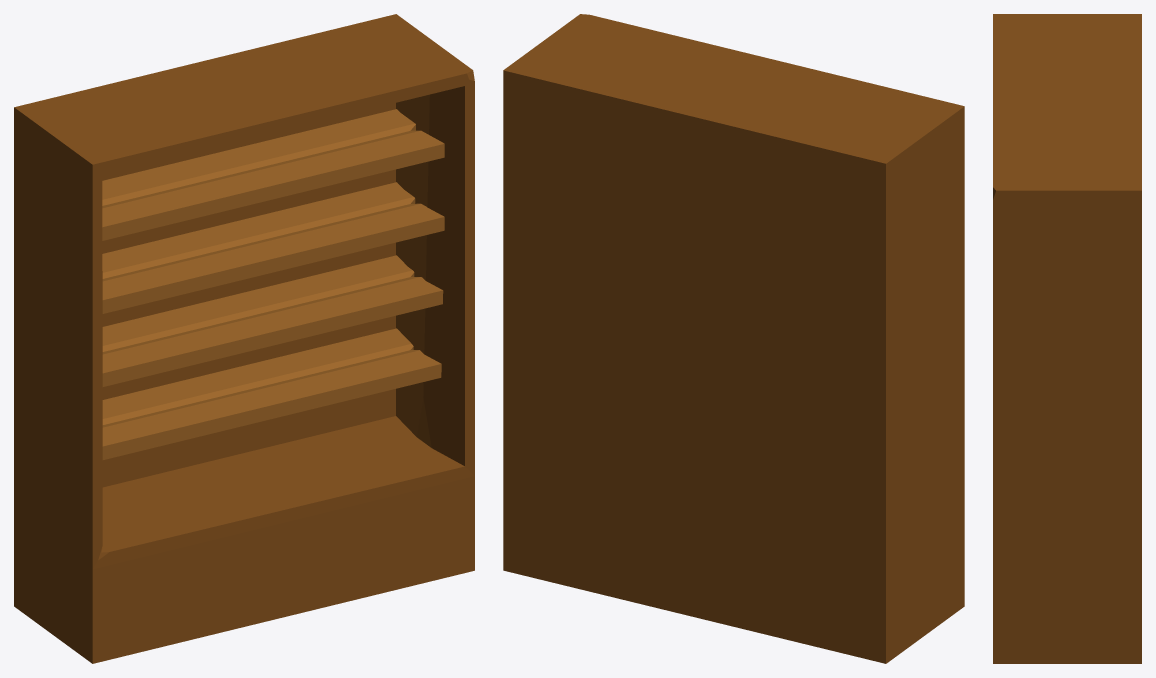
File: shelfbyquerst.fbx
The picture shows the model from 3 angles, left to right: view 1: azimuth 30°, elevation 25°; view 2: azimuth 150°, elevation 25°; view 3: azimuth 270°, elevation 25°; orthographic projection. The views are drawn at different scales.
Parts seen in each view (by area): view 1: shelf, Cube.008; view 2: shelf; view 3: shelf.
Boxes of the visible parts, x1,y1,x2,y2 form: shelf: (14,14,474,663); Cube.008: (102,109,444,459); shelf: (503,14,964,663); shelf: (993,14,1141,663).
Size of the model in its own units: 562 by 702 by 200.
